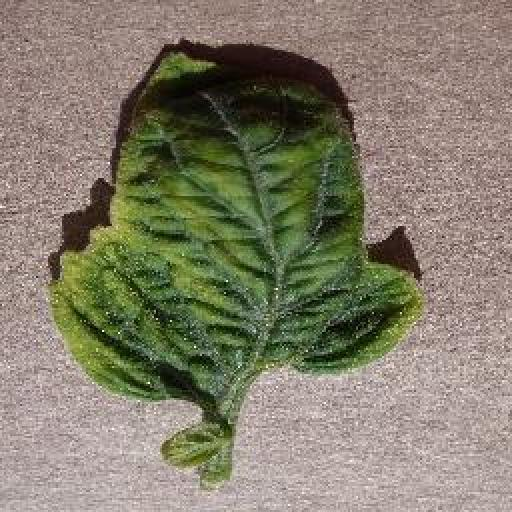disease_tomato: (58, 49, 421, 404)
